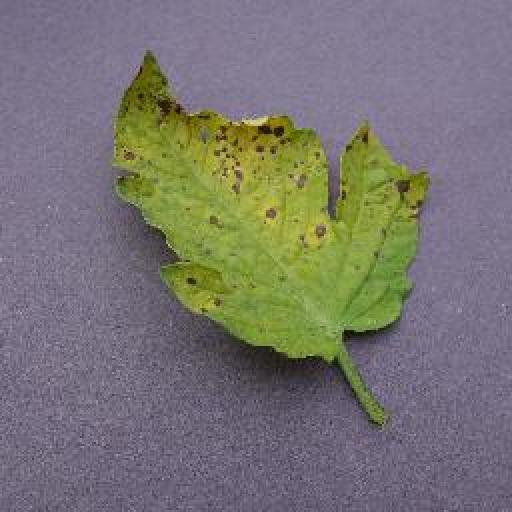disease_tomato: (116, 48, 438, 364)
